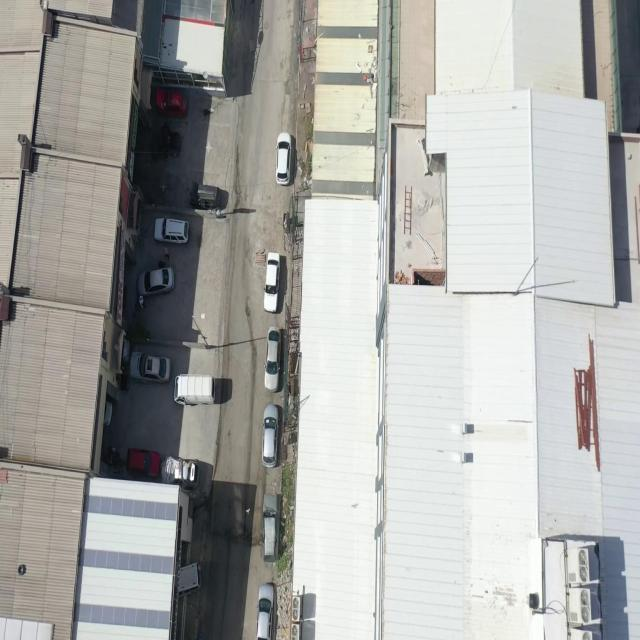p3rson: (139, 293, 147, 310), (162, 245, 170, 261)
